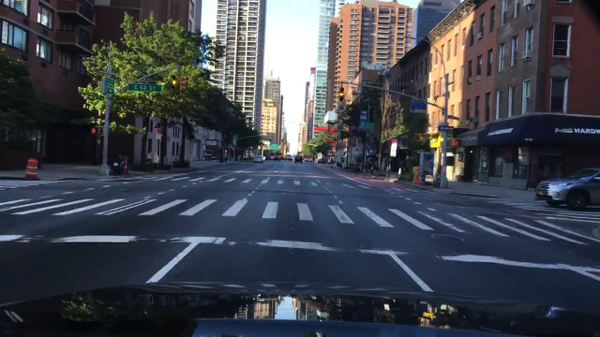car: (534, 168, 599, 212), (253, 154, 265, 164), (284, 154, 292, 162), (294, 156, 303, 163), (304, 155, 313, 162), (275, 155, 282, 160), (265, 155, 272, 160), (317, 159, 324, 162), (233, 134, 237, 139)
traffic light: (170, 74, 178, 93), (181, 75, 188, 95), (338, 87, 344, 101), (89, 127, 98, 136), (454, 139, 461, 148), (260, 136, 265, 141)
traffic sign: (125, 82, 164, 93), (105, 77, 116, 96), (410, 101, 426, 114), (389, 138, 397, 157), (438, 126, 454, 132), (362, 122, 373, 129), (270, 144, 279, 149)
